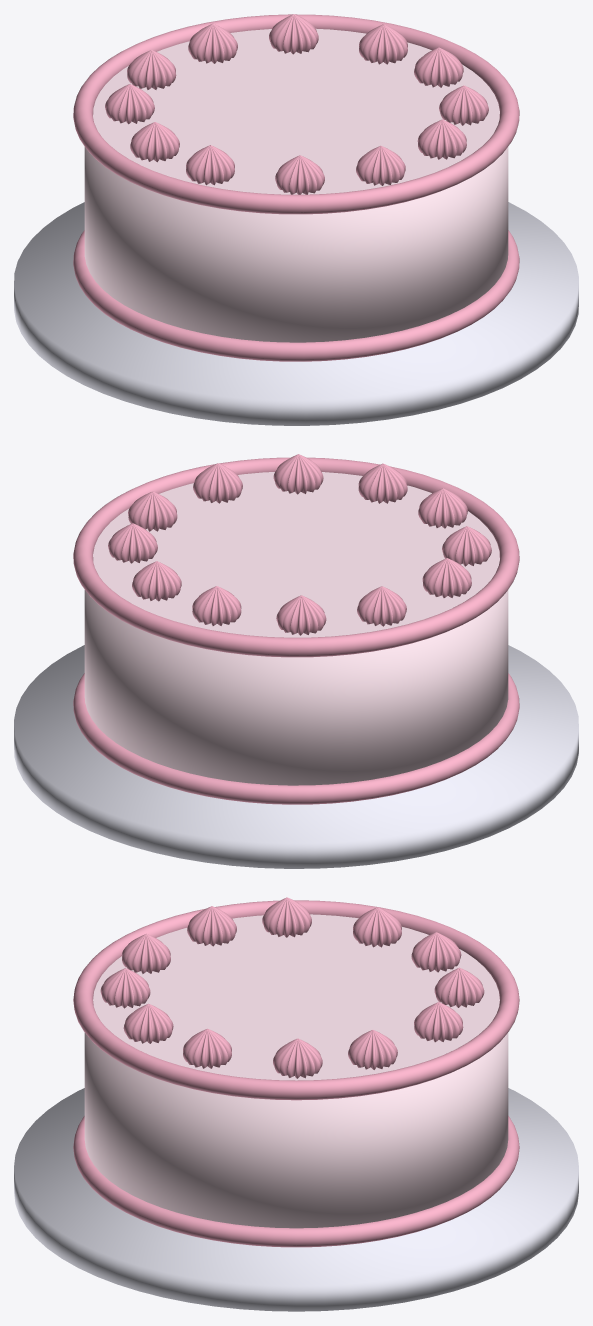
File: round_strawberry_style1.glb
The picture shows the model from 3 angles, top to bottom: view 1: azimuth 30°, elevation 25°; view 2: azimuth 150°, elevation 25°; view 3: azimuth 270°, elevation 25°; orthographic projection.
Visible parts, largest first — view 1: CakeBase, IcingStand, CakeTopCircle, IcingRing, IcingRing.001, design7, design6, design4, design10, design2, design1, design12 (+5 smaller); view 2: CakeBase, IcingStand, CakeTopCircle, IcingRing, IcingRing.001, design2, design1, design5, design9, design8, design3, design10 (+5 smaller); view 3: CakeBase, IcingStand, CakeTopCircle, IcingRing, IcingRing.001, design2, design11, design10, design7, design6, design5, design3 (+5 smaller).
Boxes of the visible parts, <box> form: CakeBase: <box>84,147,508,342</box>; IcingStand: <box>14,202,578,425</box>; CakeTopCircle: <box>93,28,499,194</box>; IcingRing: <box>73,14,519,214</box>; IcingRing.001: <box>73,230,519,361</box>; design7: <box>186,145,234,185</box>; design6: <box>127,50,176,89</box>; design4: <box>414,47,463,87</box>; design10: <box>105,84,154,124</box>; design2: <box>356,145,405,185</box>; design1: <box>188,23,237,63</box>; design12: <box>275,155,324,194</box>; CakeBase: <box>84,590,508,785</box>; IcingStand: <box>14,645,578,868</box>; CakeTopCircle: <box>93,472,499,637</box>; IcingRing: <box>73,457,519,657</box>; IcingRing.001: <box>73,673,519,804</box>; design2: <box>358,463,407,503</box>; design1: <box>192,586,241,625</box>; design5: <box>273,454,323,494</box>; design9: <box>193,463,242,503</box>; design8: <box>108,523,157,563</box>; design3: <box>422,558,471,597</box>; design10: <box>357,586,406,626</box>; CakeBase: <box>84,1032,508,1228</box>; IcingStand: <box>14,1088,578,1311</box>; CakeTopCircle: <box>93,914,499,1080</box>; IcingRing: <box>73,900,519,1100</box>; IcingRing.001: <box>73,1116,519,1247</box>; design2: <box>100,968,150,1008</box>; design11: <box>414,1002,463,1042</box>; design10: <box>353,907,401,947</box>; design7: <box>187,906,236,946</box>; design6: <box>411,932,461,972</box>; design5: <box>123,1003,173,1043</box>; design3: <box>262,897,311,937</box>.
Bounding box in the file's own units: 4 × 1.75 × 4.
